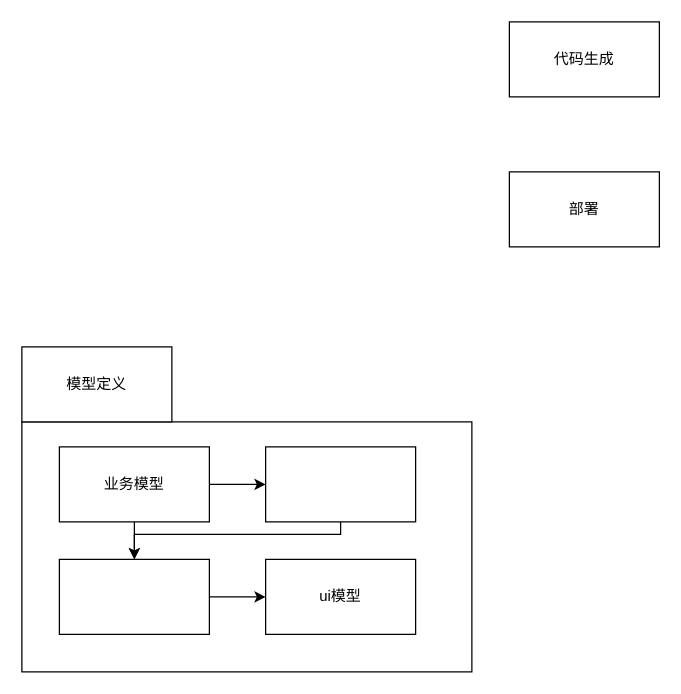
Some shapes in this 681 by 694 pixel diagram are drawn without their labels. The centre of each missing label's shape, as x and y in pixels:
数据模型: point 340,484
服务模型: point 133,596
